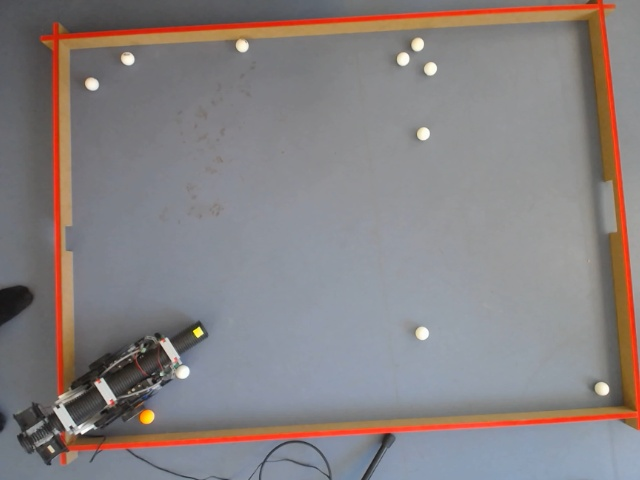orange: (140, 409, 155, 425)
robot: (16, 329, 206, 462)
white: (408, 36, 424, 62), (394, 50, 412, 69), (409, 36, 427, 54), (422, 59, 439, 78), (414, 324, 431, 342), (234, 36, 251, 54), (83, 74, 100, 92), (593, 380, 611, 397), (415, 125, 432, 142), (120, 51, 136, 68), (177, 364, 190, 379)
